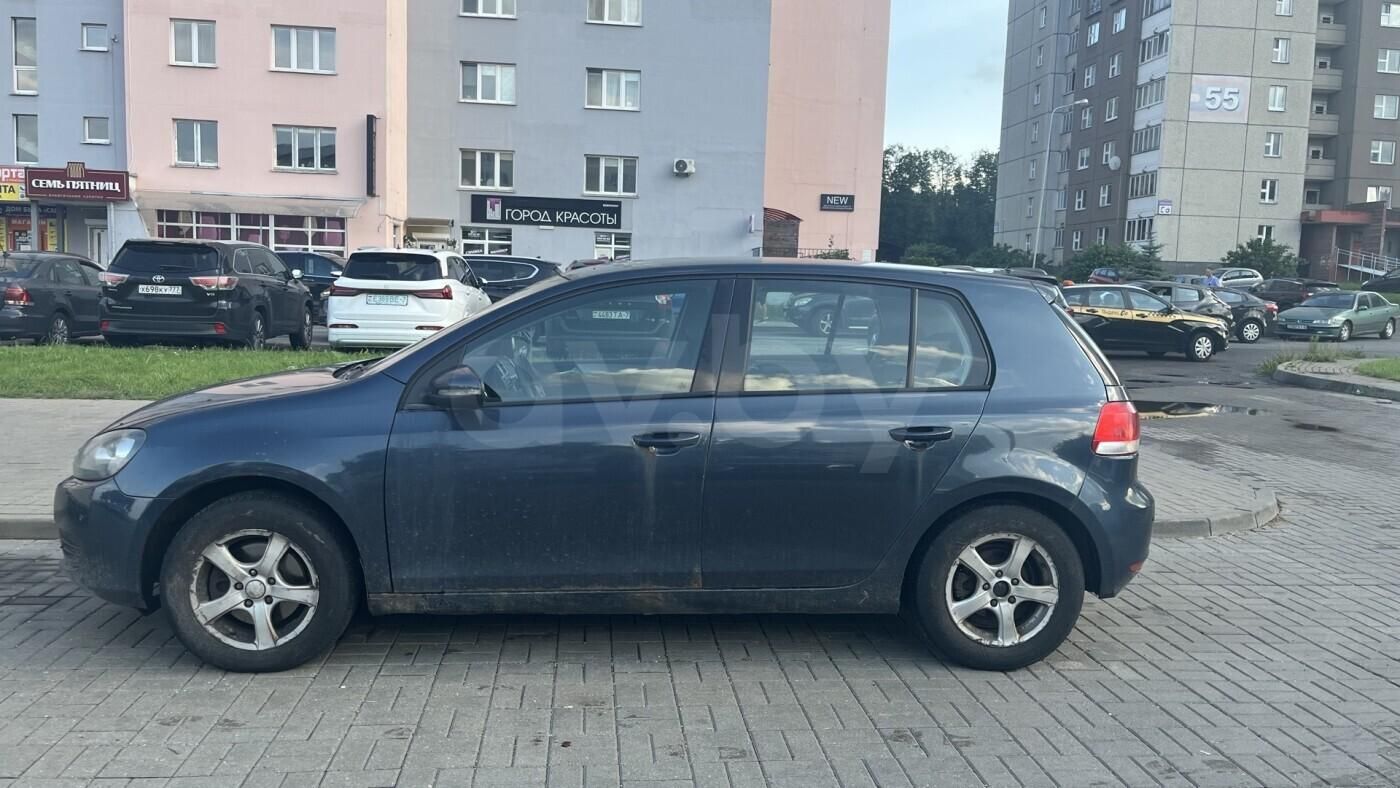Golf_2008-2013: (54, 256, 1154, 695)
